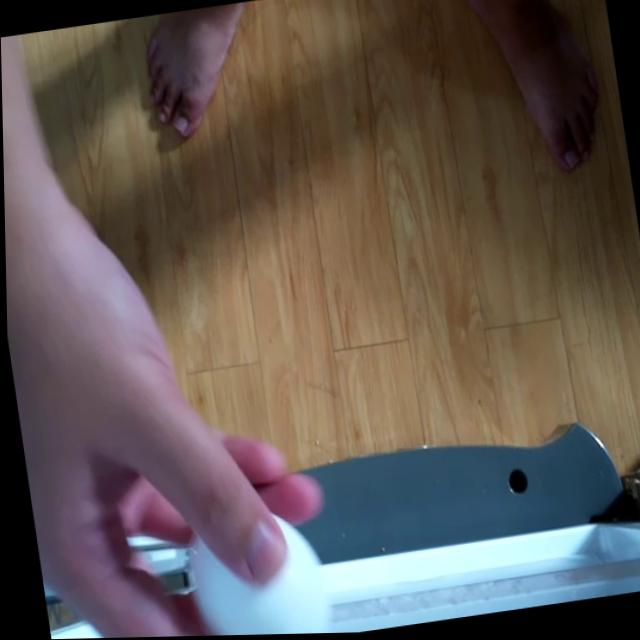egg: (180, 500, 327, 637)
